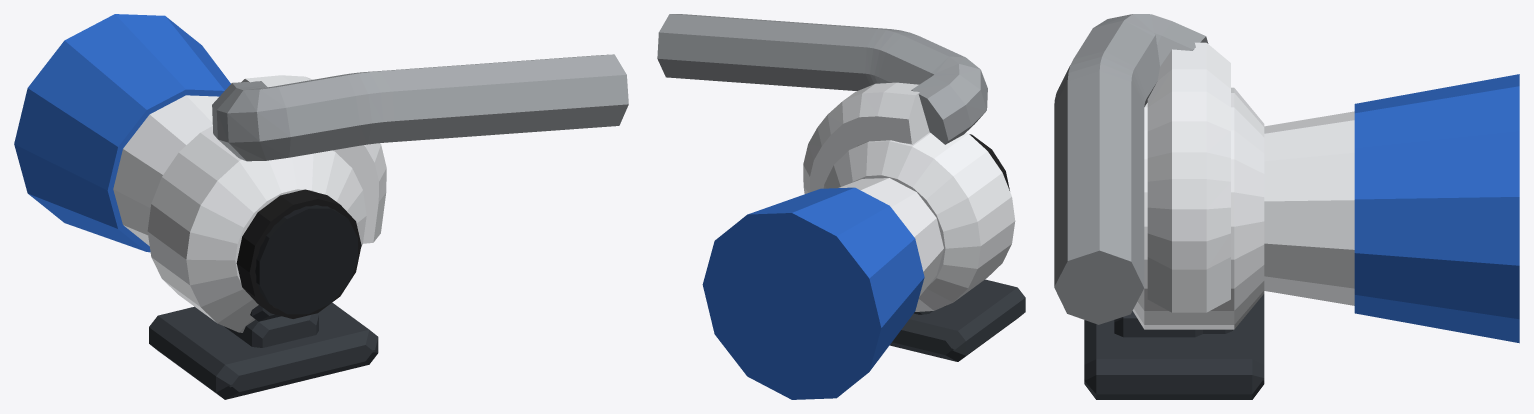
File: kaze_gt.glb
3 views of the same model, side by side, from view 1: azimuth 30°, elevation 25°; view 2: azimuth 150°, elevation 25°; view 3: azimuth 270°, elevation 25° (orthographic). The views are drawn at different scales.
Visible parts, largest first — view 1: model; view 2: model; view 3: model.
Boxes of the visible parts, <box> form: model: <box>14,14,628,399</box>; model: <box>657,14,1025,399</box>; model: <box>1054,14,1519,399</box>.
Bounding box in the file's own units: 0.3749 × 0.2487 × 0.31.
Materials: 4 (1 with a texture image).
